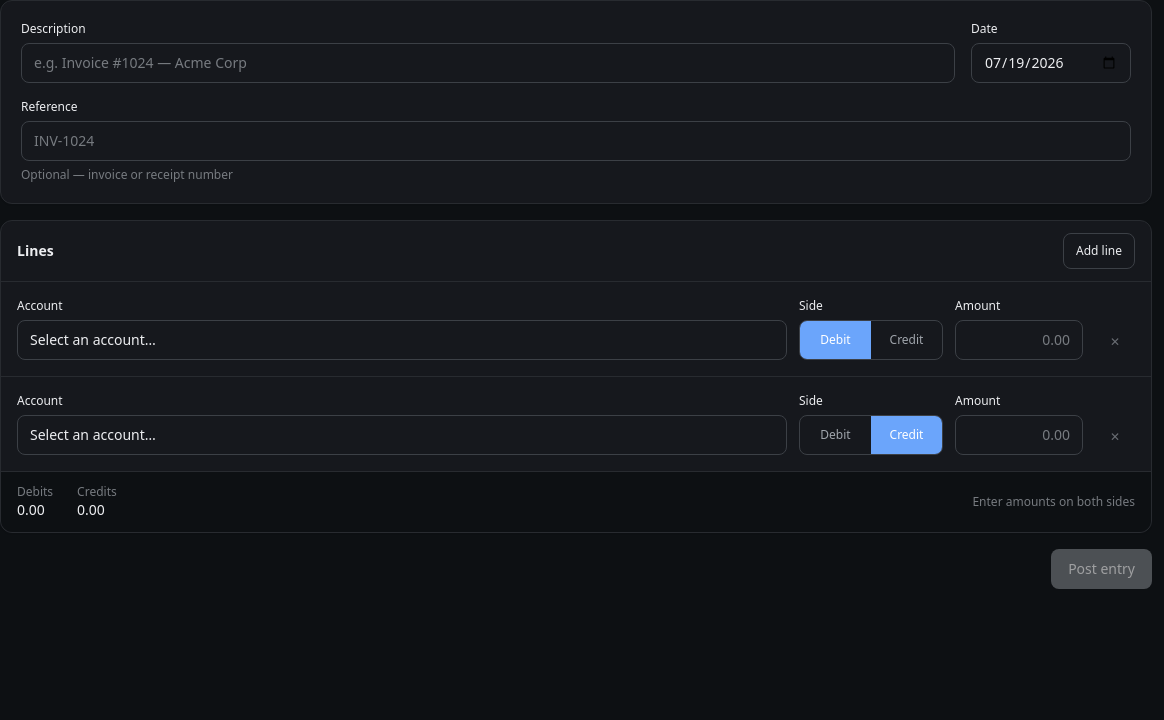
Scenario: EntryForm — balance readout › reports the shortfall while the entry is out of balance
Select "1000 · Cash" in the 1st dropdown labelled "Account". click: (402, 340)
box: [17,320,787,360]
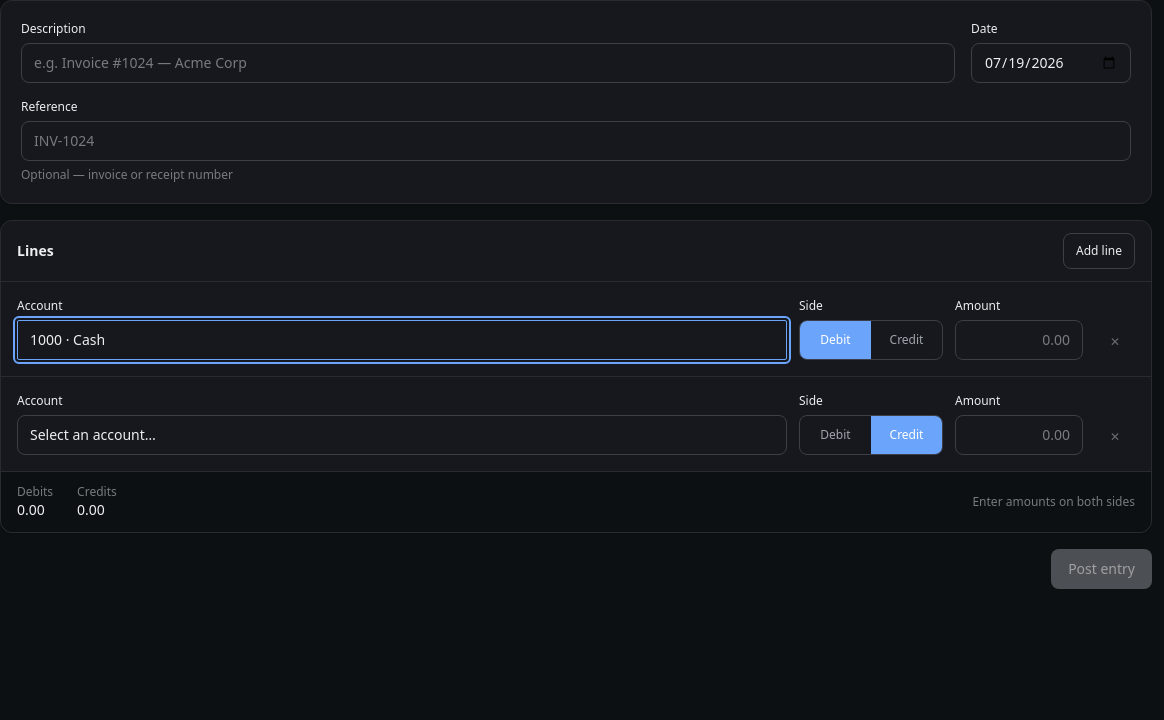
Click the 1st button "debit". click: (836, 340)
box: [800,321,871,359]
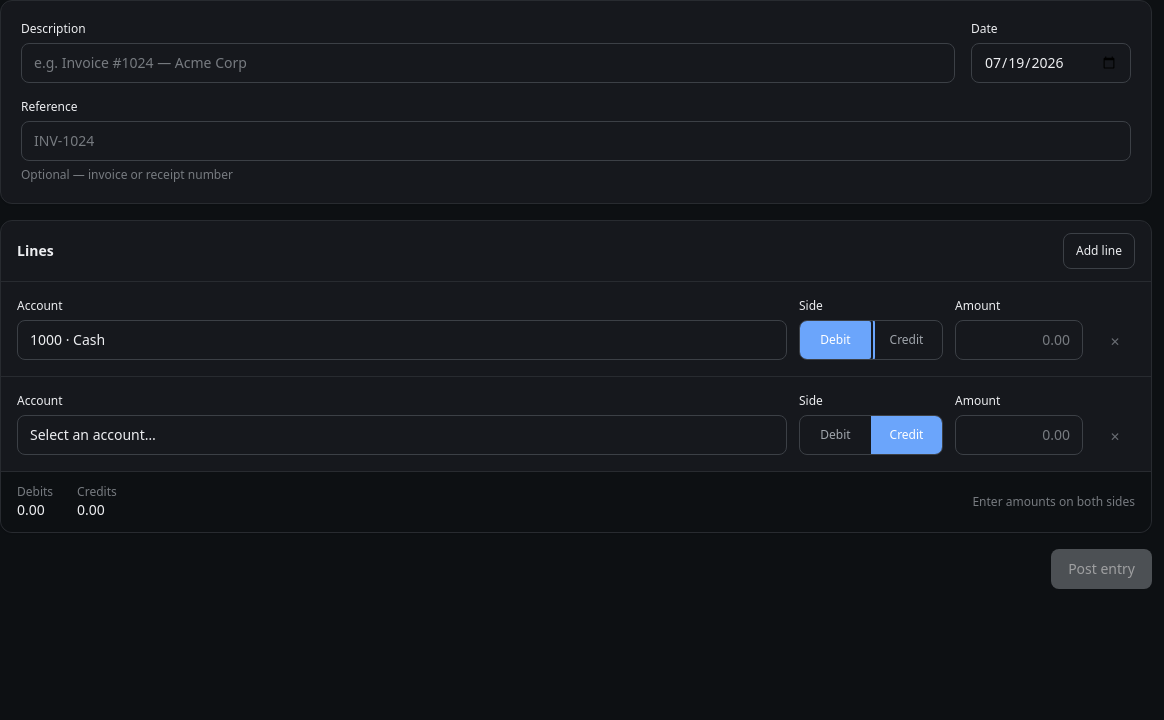
Type "100.00" into the 1st field labelled "Amount". click: (1019, 340)
box: [955,320,1083,360]
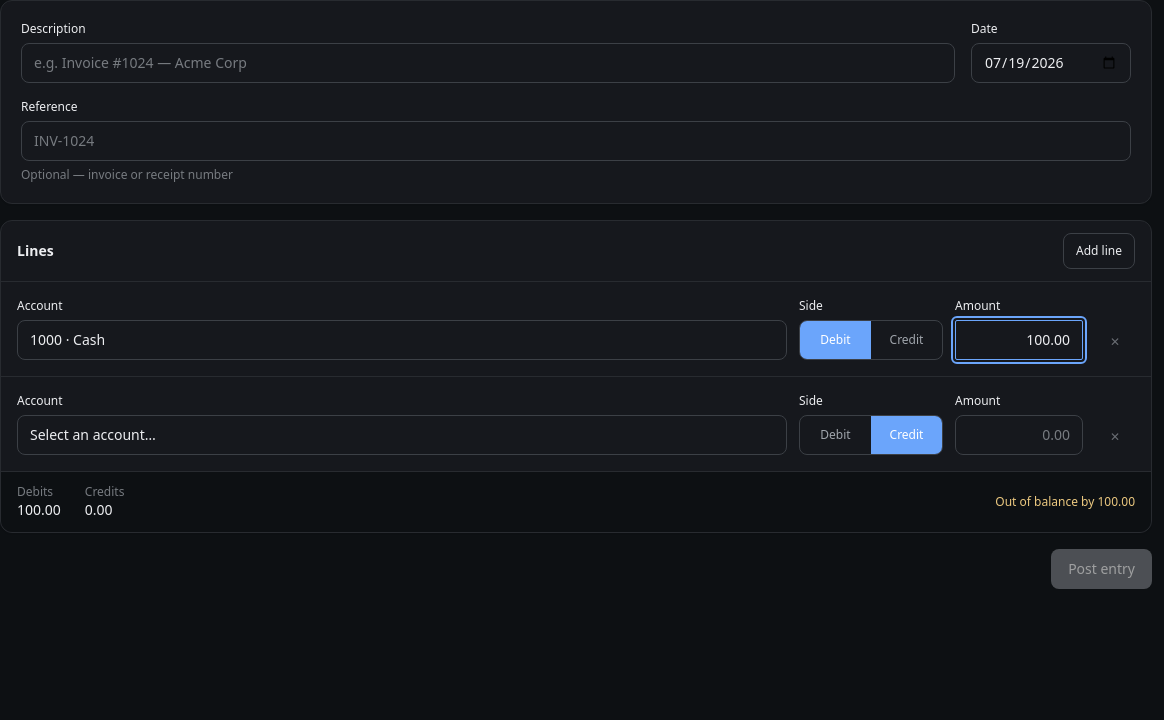
Select "4000 · Sales Revenue" in the 2nd dropdown labelled "Account". click: (402, 435)
box: [17,415,787,455]
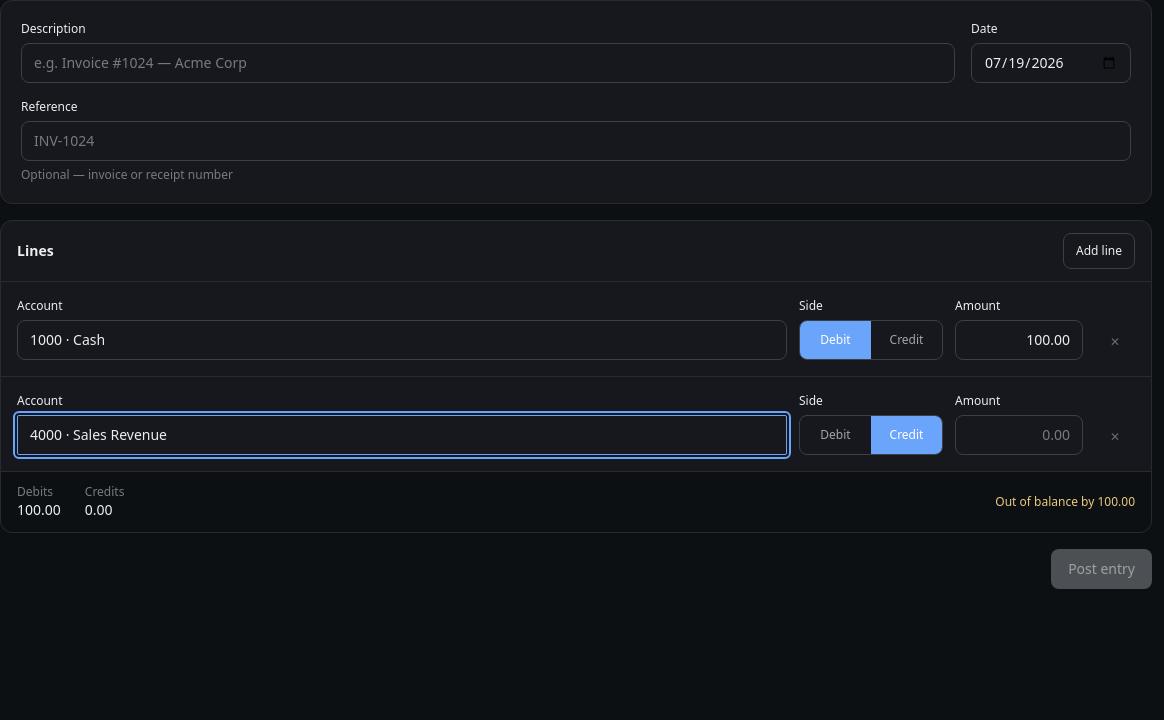
Click the 2nd button "credit". click: (906, 435)
box: [871,416,942,454]
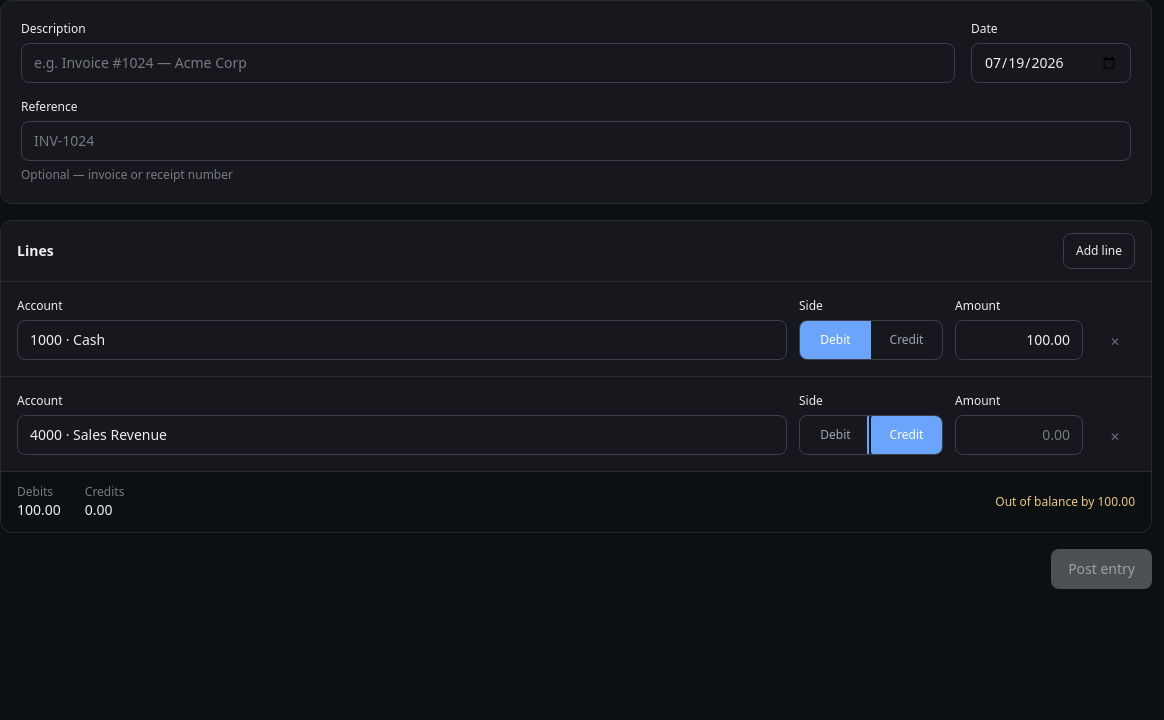
Type "99.99" into the 2nd field labelled "Amount". click: (1019, 435)
box: [955,415,1083,455]
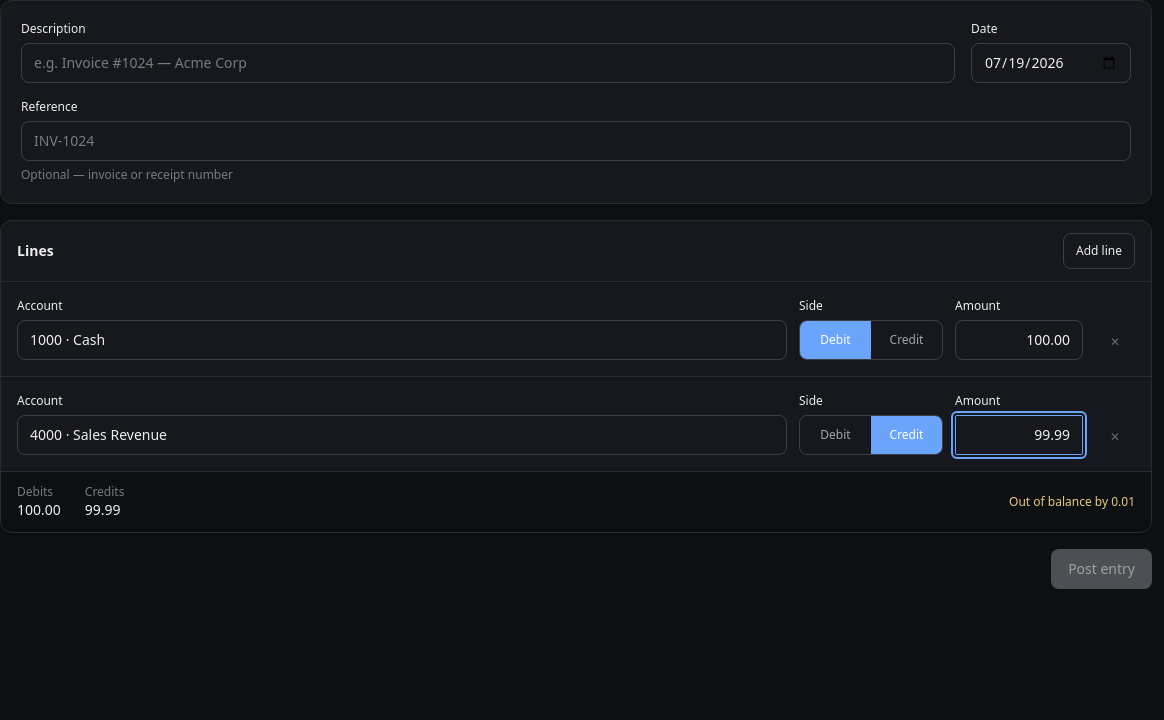
Expected: the button "Post entry" is disabled, [1051,549,1152,589]
Now the text "Out of balance by 0.01" is shown, box [1009,494,1135,510]
Now the text "0.01" is shown, box [1111,493,1135,510]
